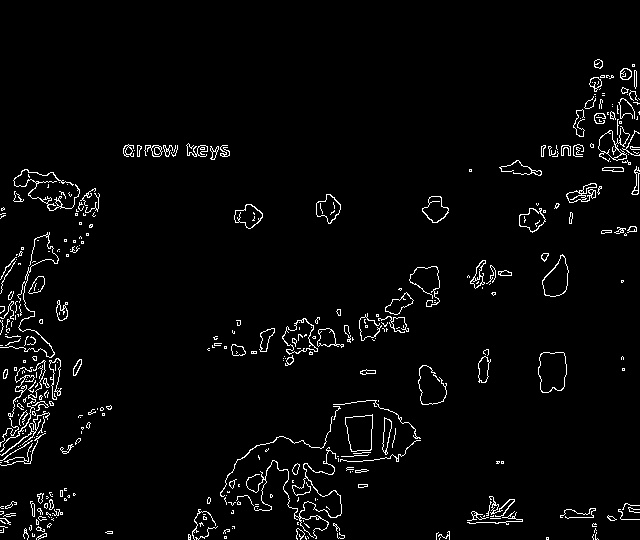rune_box: (165, 168, 583, 266)
